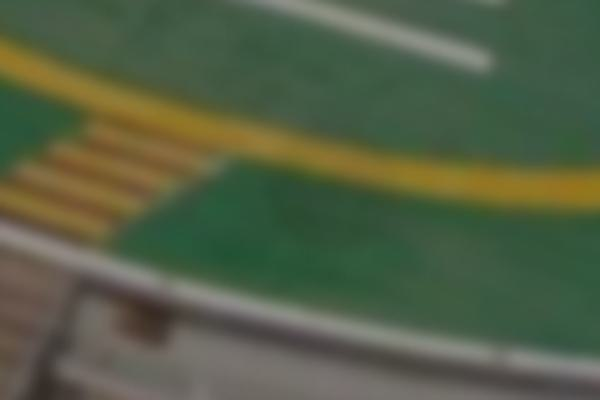Apron: (1, 1, 599, 228)
